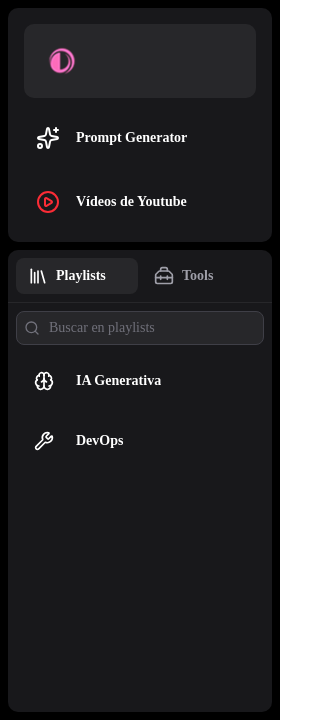
Sidebar › switches to tools view when the Tools tab is clicked
Click the tab "Tools": (203, 276) [142,258,264,294]
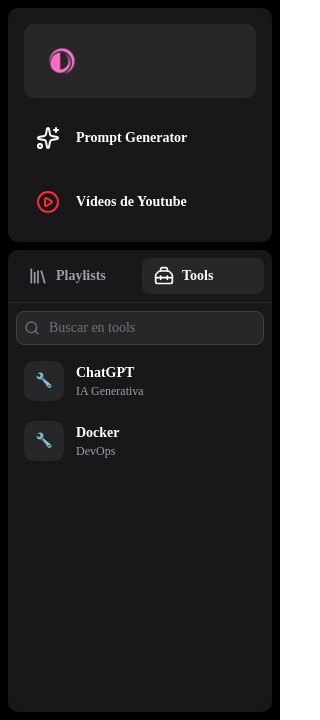
Check: the link "🔧 ChatGPT IA Generativa" is shown, box [24,361,144,401]
Check: the link "🔧 Docker DevOps" is shown, box [24,421,120,461]
